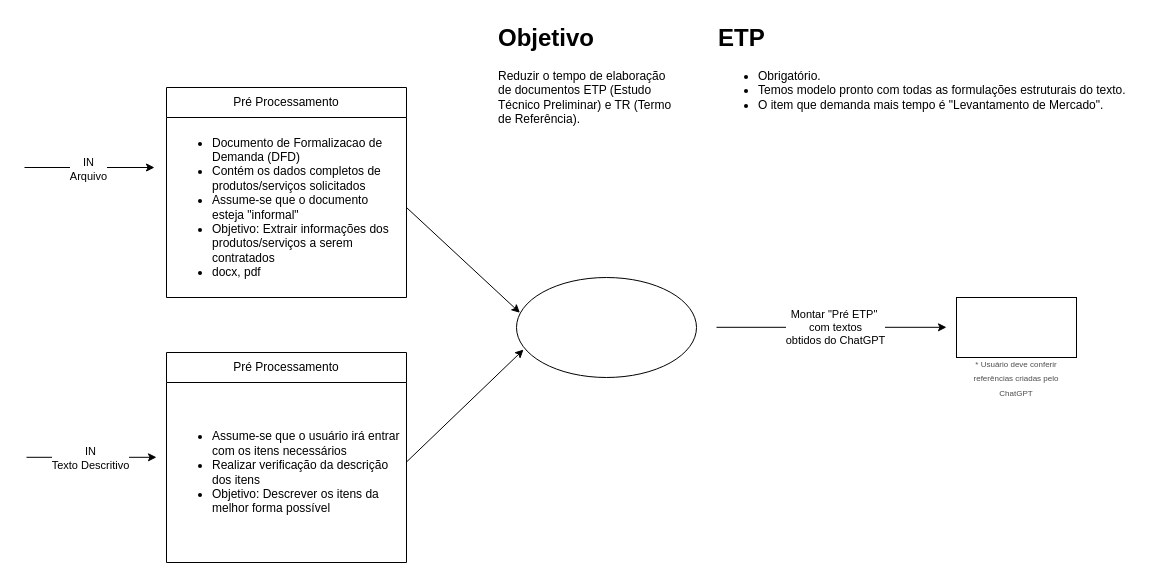
This 1154x580 diagram has some shape labels left out. Here are the shapes that lost their labels. From the top down, the centre of each, then its label:
the point at 606,327: Organização dos tópicos e geração dos textos para cada tópico
the point at 1016,327: Objeto "editável" para usuário
